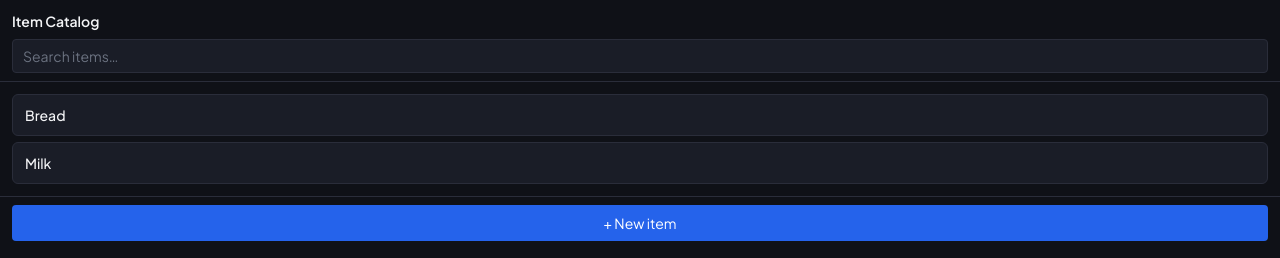
Test: RepositoryScreen — search › filters the catalog by the typed query
Check: the text "Milk" is shown, box [25, 153, 51, 173]
Type "Mil" into the field with placeholder "Search items…".
click(640, 56); type("Mil")  # box [12, 39, 1268, 73]
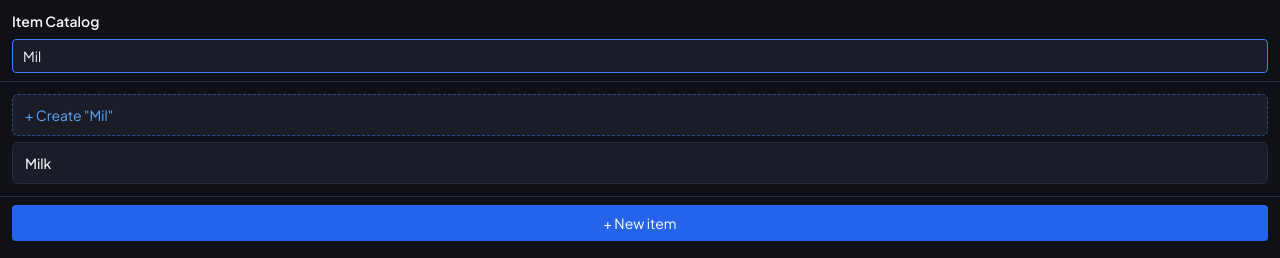
Check: the text "Milk" is shown, box [25, 153, 51, 173]
Check: the button "Bread" is gone
